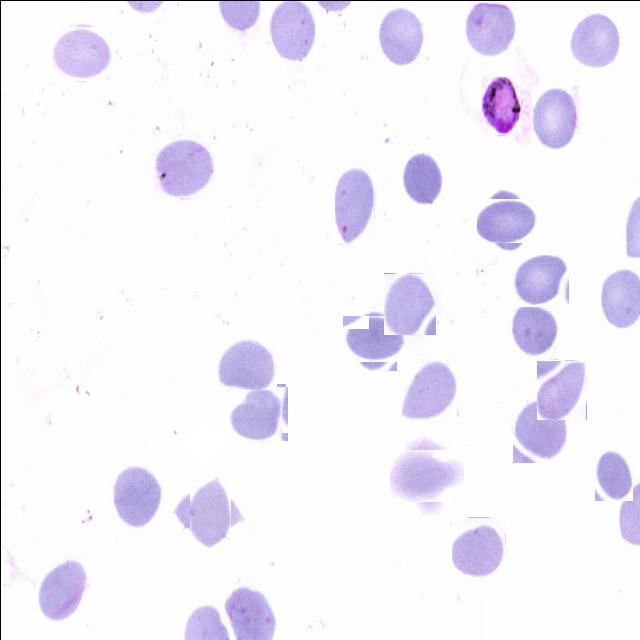gametocyte: (481, 76, 520, 134)
red blood cell: (394, 443, 458, 508), (35, 553, 90, 622), (53, 23, 113, 84), (154, 138, 213, 198), (401, 355, 456, 419), (512, 397, 566, 462), (112, 460, 162, 530), (181, 482, 238, 540), (383, 272, 436, 334), (229, 384, 286, 441), (216, 336, 276, 389), (566, 11, 620, 69), (334, 166, 374, 244), (451, 516, 505, 573), (531, 85, 578, 150), (513, 252, 567, 308), (536, 359, 586, 419), (376, 4, 425, 65), (346, 312, 400, 366), (508, 302, 560, 358), (464, 0, 515, 56), (481, 194, 534, 247), (402, 147, 442, 204), (594, 446, 632, 500)
